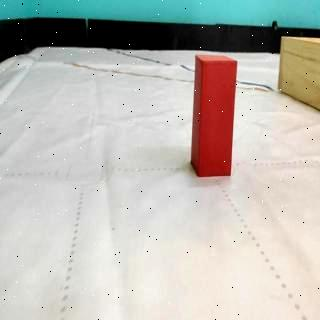redbox: (190, 54, 238, 178)
